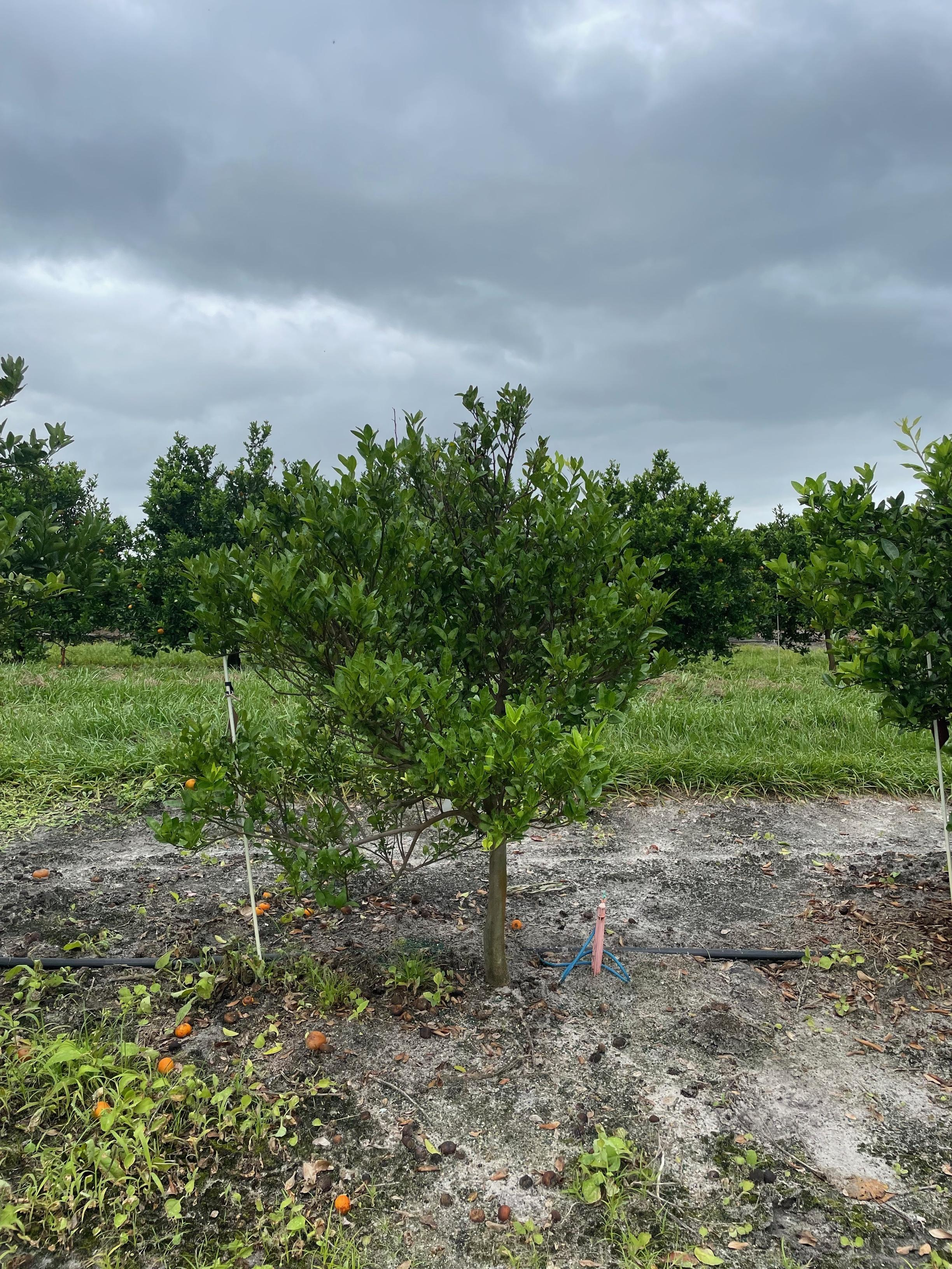fruit_on_ground: (3, 1035, 37, 1064), (182, 776, 200, 793), (156, 628, 164, 635), (136, 582, 144, 589), (716, 557, 724, 564), (758, 565, 765, 572), (99, 549, 104, 555)
fruit_on_tree: (304, 1028, 331, 1053), (89, 1098, 114, 1121), (155, 1054, 178, 1076), (332, 1192, 352, 1214), (172, 1019, 194, 1039), (496, 1203, 513, 1222), (439, 1140, 457, 1156), (32, 866, 51, 880), (508, 916, 524, 931), (409, 891, 424, 906), (258, 888, 272, 900), (257, 900, 272, 911), (252, 905, 265, 917)
